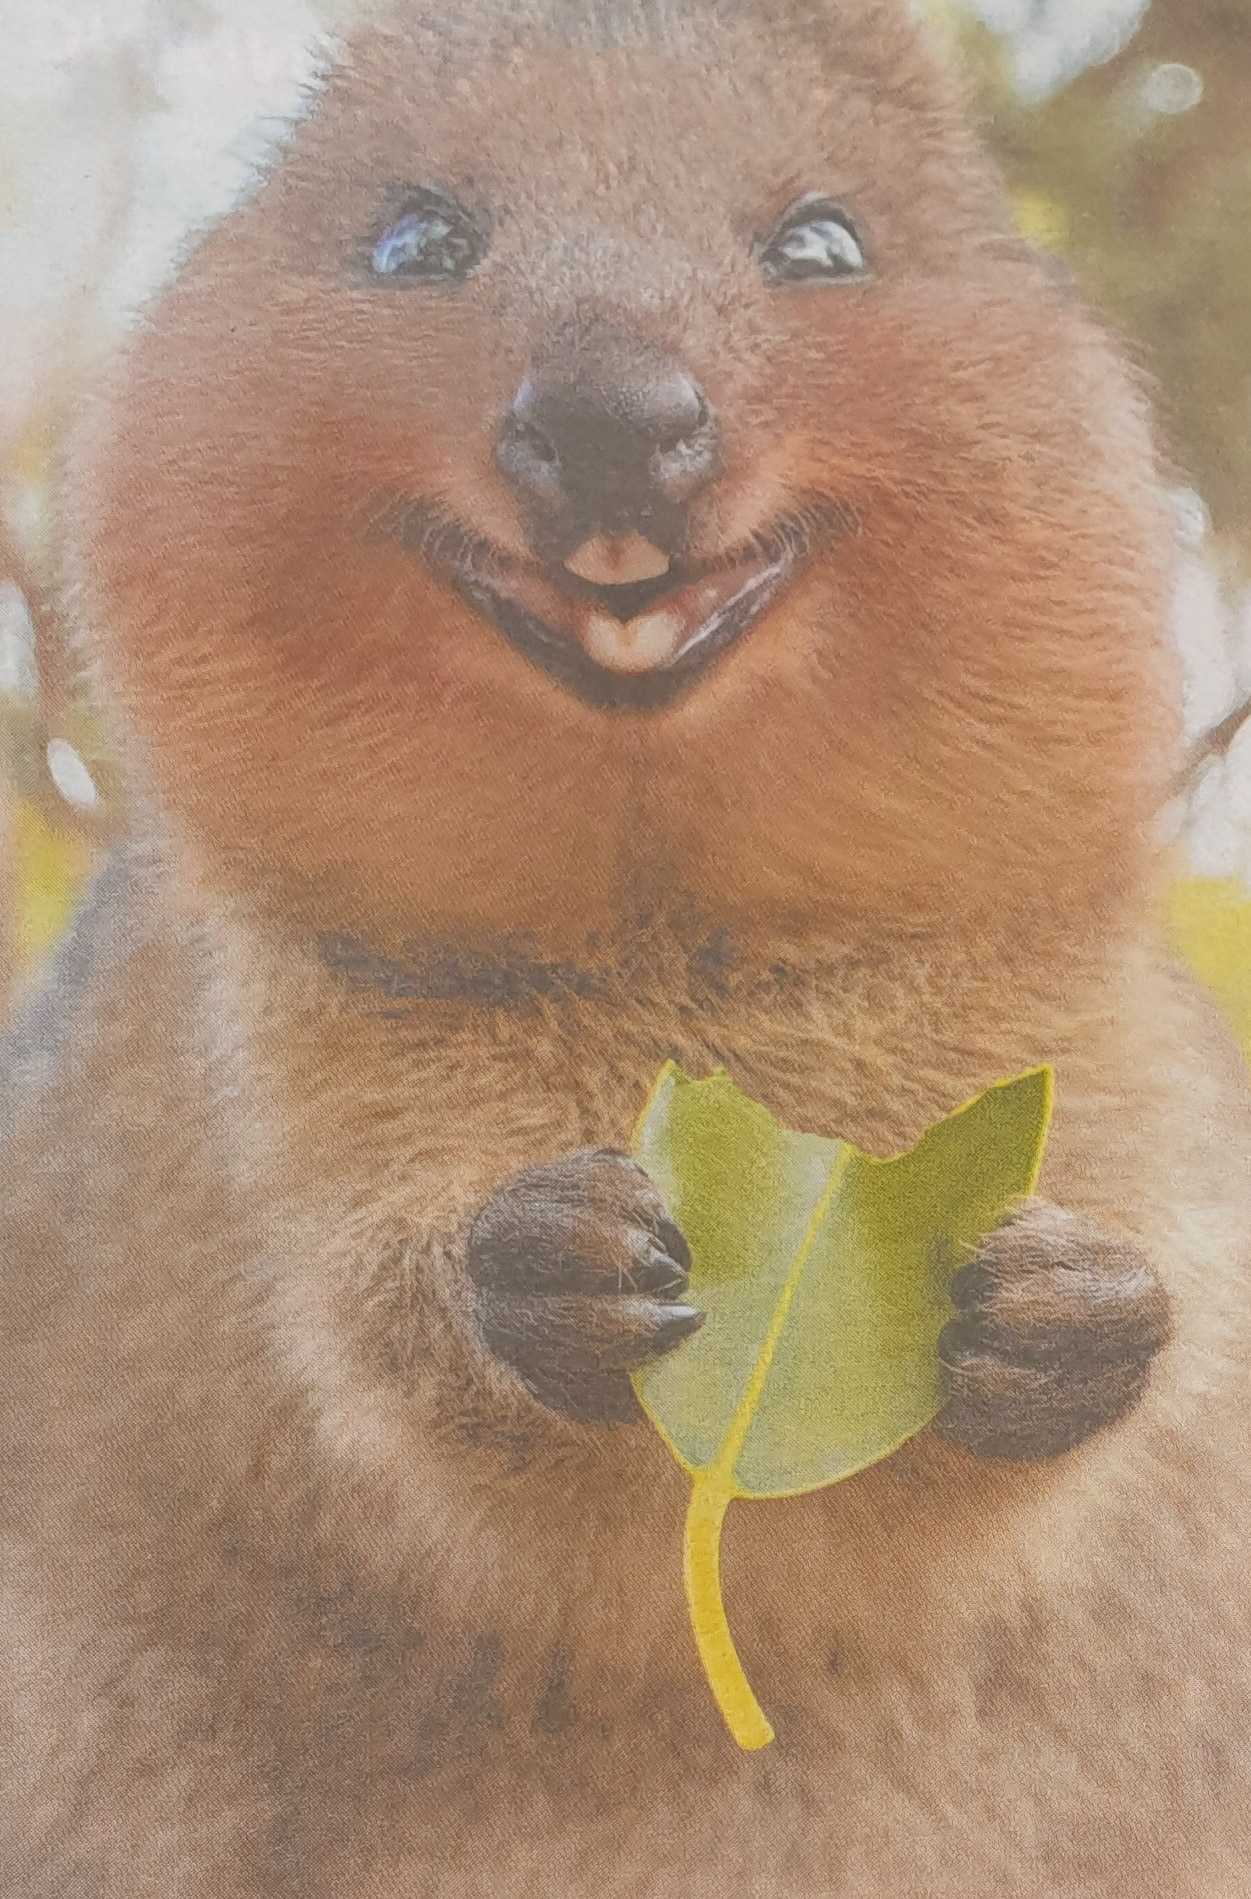quokka: (7, 8, 1251, 1764)
